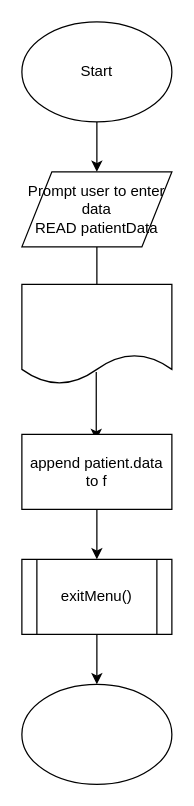
Image size: 194x806. Some labels were removed from this diagram. Each missing label, with the centre of its shape:
"End" goes at pixel 96 733.
"open patient.txt as f" goes at pixel 96 333.
